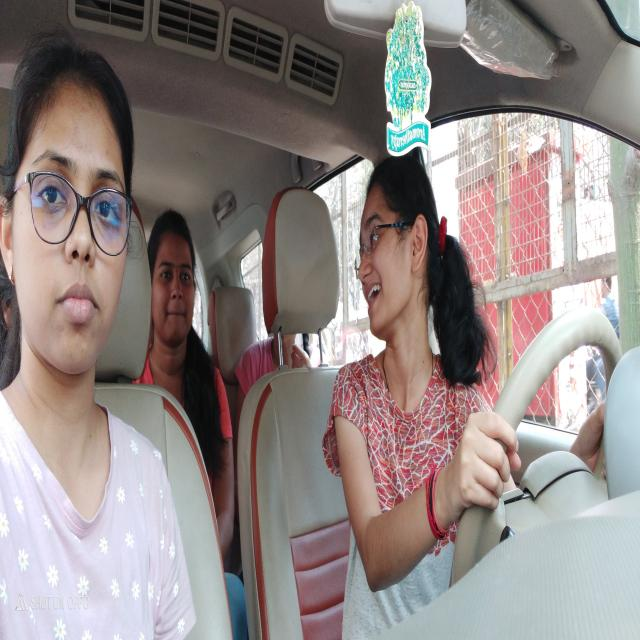LeftRight: (344, 137, 433, 378)
person: (0, 37, 138, 397), (148, 197, 201, 367)
talking: (362, 279, 384, 311)
